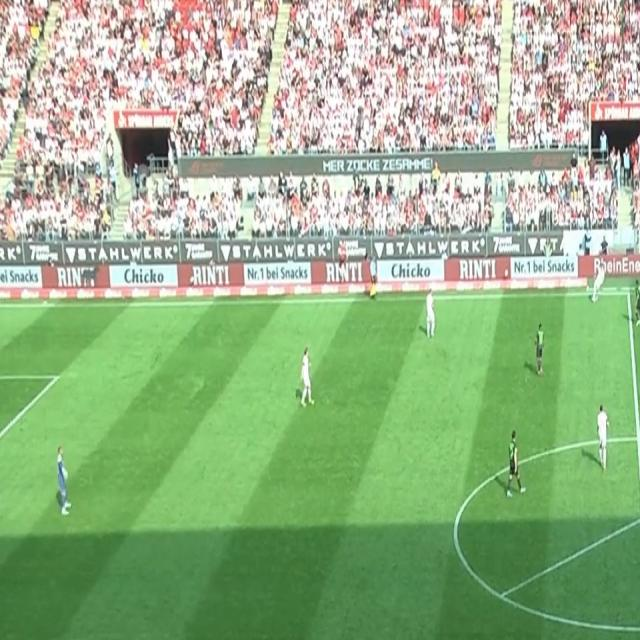ball: (591, 294, 597, 304)
